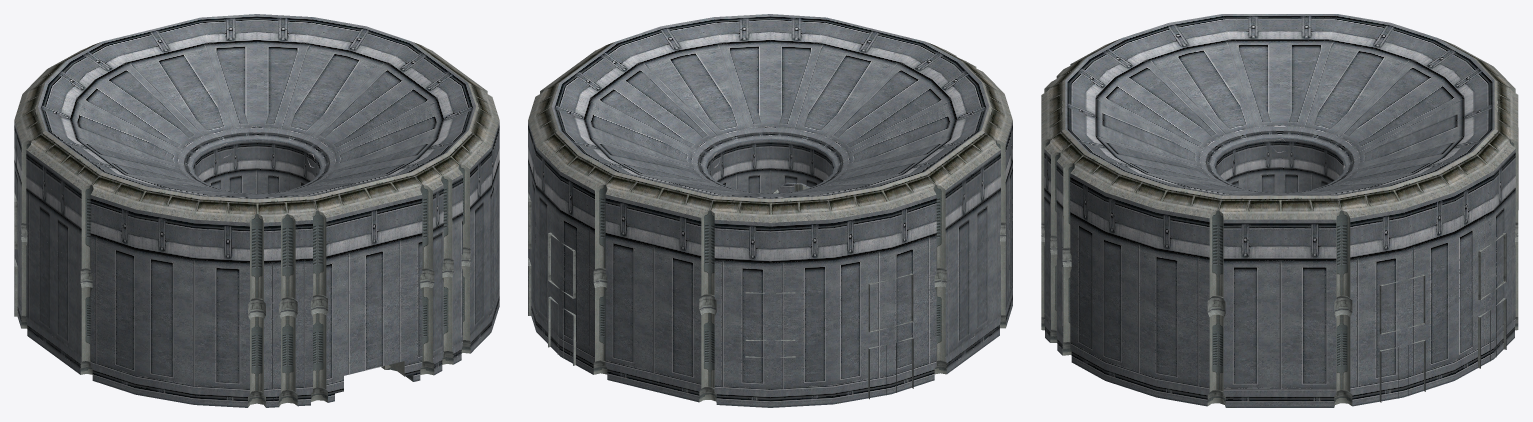
File: thm_nboo_thed_emp_retreat_r16_emperor_mesh_r16.fbx
The picture shows the model from 3 angles, left to right: view 1: azimuth 30°, elevation 25°; view 2: azimuth 150°, elevation 25°; view 3: azimuth 270°, elevation 25°; orthographic projection.
Visible parts, largest first — view 1: mesh_node; view 2: mesh_node; view 3: mesh_node.
Boxes of the visible parts, bbox=[...] form: mesh_node: bbox=[14, 14, 499, 407]; mesh_node: bbox=[528, 14, 1012, 407]; mesh_node: bbox=[1041, 14, 1518, 407].
Size of the model in its own units: 18.35 by 8.6 by 18.35.
